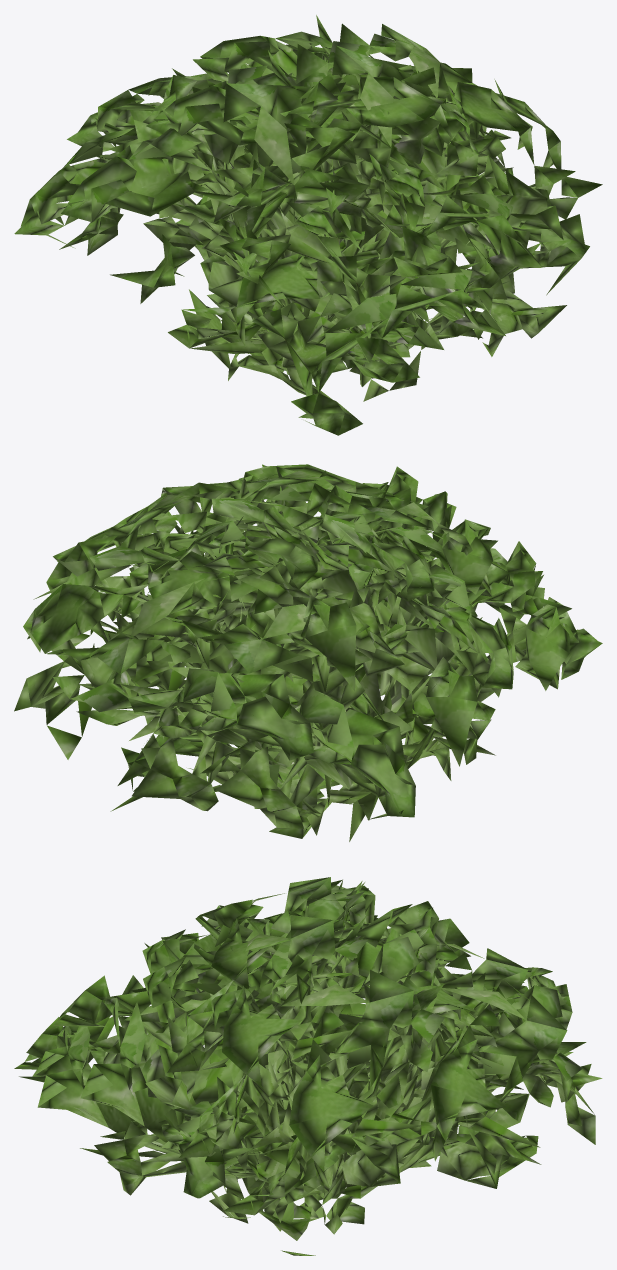
File: shrub.glb
3 renders of one model, top to bottom at view 1: azimuth 30°, elevation 25°; view 2: azimuth 150°, elevation 25°; view 3: azimuth 270°, elevation 25°, orthographic. The views are drawn at different scales.
Parts seen in each view (by area): view 1: Canopy.001; view 2: Canopy.001; view 3: Canopy.001.
Boxes of the visible parts, x1=… form: Canopy.001: x1=14, y1=15, x2=602, y2=435; Canopy.001: x1=14, y1=464, x2=602, y2=841; Canopy.001: x1=14, y1=877, x2=602, y2=1255.
Bounding box in the file's own units: 1.57 × 1 × 1.7.
1 material, 1 textured.
